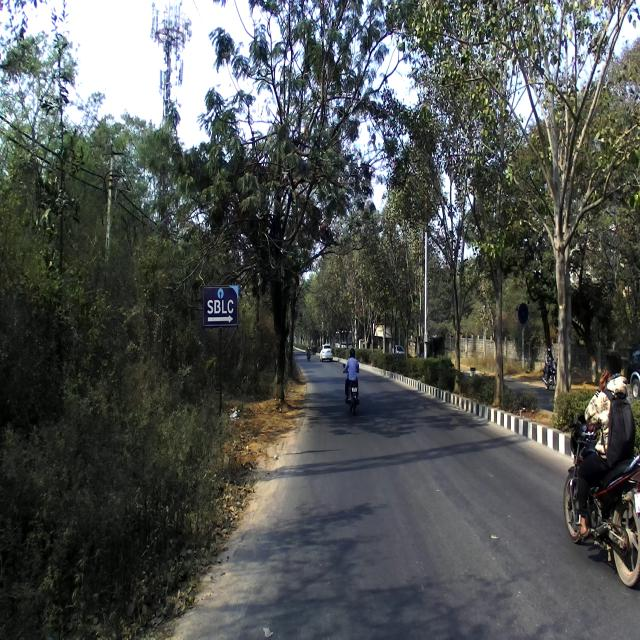sign board ahead at: (202, 279, 242, 332)
tree ahead at: (249, 210, 315, 411)
